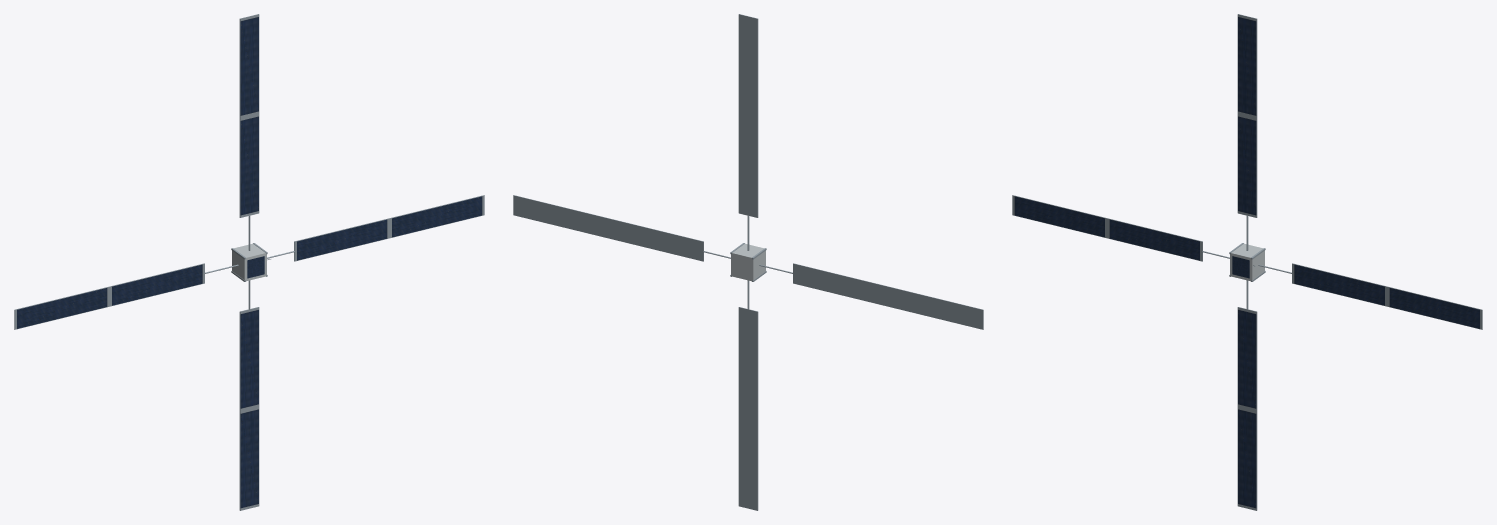
File: ref-cubesat-1u-39405.glb
3 renders of one model, left to right at view 1: azimuth 30°, elevation 25°; view 2: azimuth 150°, elevation 25°; view 3: azimuth 330°, elevation 25°, orthographic.
Visible parts, largest first — view 1: Photovoltaic laminates (×8), Spacecraft body; view 2: Array frame (×8), Spacecraft body; view 3: Photovoltaic laminates (×8), Spacecraft body.
Boxes of the visible parts, bbox=[...] form: Photovoltaic laminates (×8): bbox=[17, 17, 482, 508]; Spacecraft body: bbox=[232, 243, 266, 281]; Array frame (×8): bbox=[513, 14, 983, 510]; Spacecraft body: bbox=[731, 243, 765, 281]; Photovoltaic laminates (×8): bbox=[1014, 17, 1479, 508]; Spacecraft body: bbox=[1230, 243, 1264, 281].
Size of the model in its own units: 2.1 by 2.1 by 0.105.
Materials: 3 (1 with a texture image).
